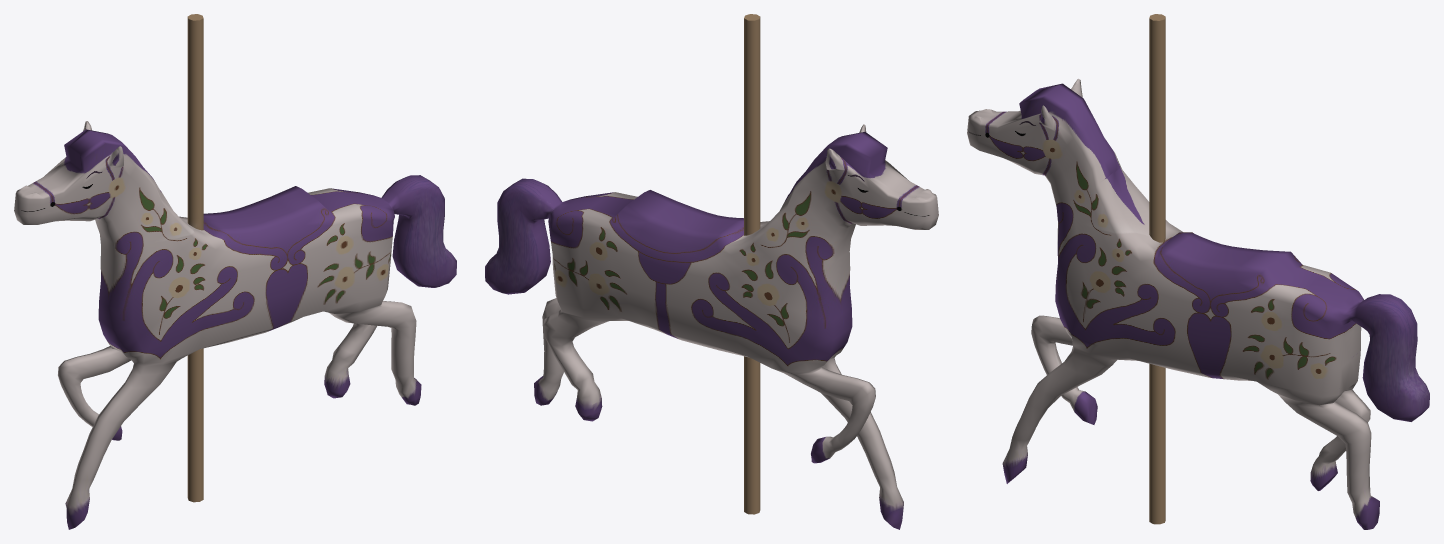
Rendered from carousel_horse.glb.
3 renders of one model, left to right at view 1: azimuth 30°, elevation 25°; view 2: azimuth 150°, elevation 25°; view 3: azimuth 330°, elevation 25°, orthographic. The views are drawn at different scales.
Parts seen in each view (by area): view 1: Horse_HIGH; view 2: Horse_HIGH; view 3: Horse_HIGH.
Boxes of the visible parts, bbox=[...] form: Horse_HIGH: bbox=[14, 14, 456, 529]; Horse_HIGH: bbox=[485, 14, 938, 529]; Horse_HIGH: bbox=[967, 14, 1429, 529].
Size of the model in its own units: 576 by 609 by 96.39.
Materials: 1 (1 with a texture image).
